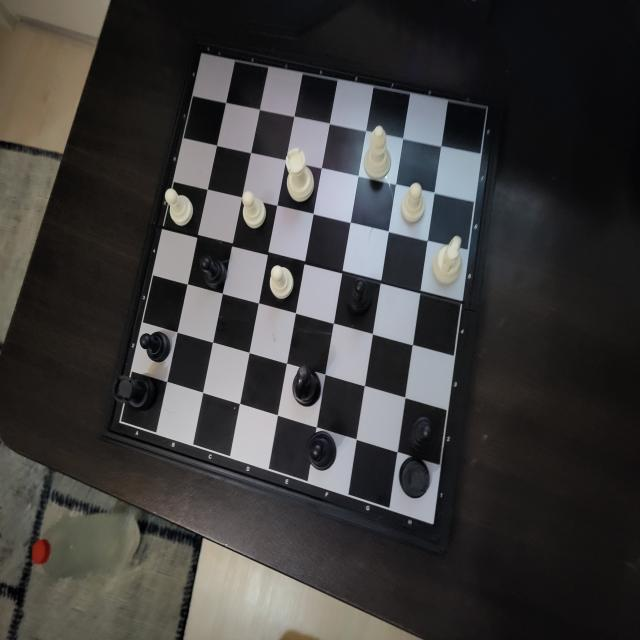black-bishop: (304, 428, 340, 472)
black-knight: (291, 363, 324, 408)
black-pawn: (138, 328, 174, 364), (408, 410, 436, 456), (199, 251, 229, 293), (347, 275, 374, 318)
black-rook: (112, 375, 158, 409), (399, 456, 429, 500)
chess-board: (113, 42, 499, 536)
white-bishop: (364, 124, 393, 181)
white-knight: (432, 234, 464, 289)
white-pawn: (164, 184, 194, 227), (240, 188, 268, 232), (400, 181, 427, 226), (268, 260, 294, 302)
white-rook: (284, 147, 317, 206)
